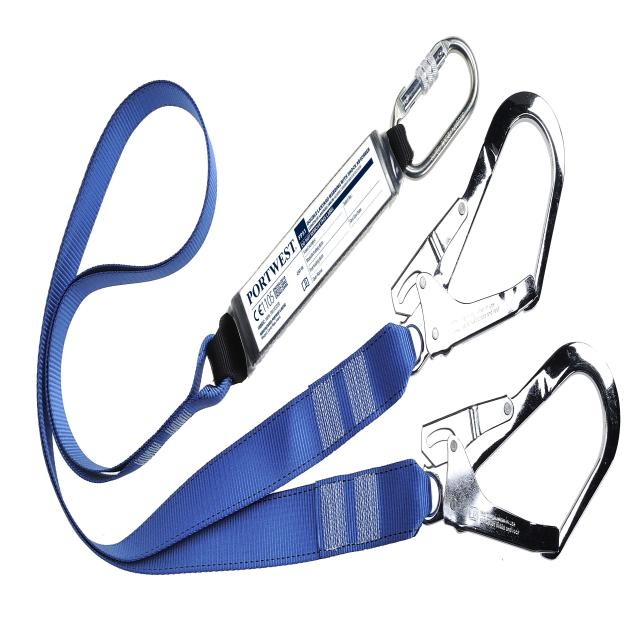harness: (33, 34, 620, 592)
